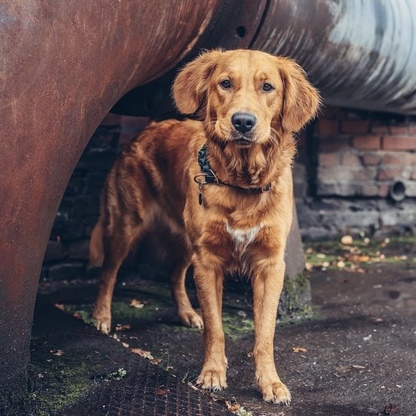labrado: (82, 44, 326, 404)
